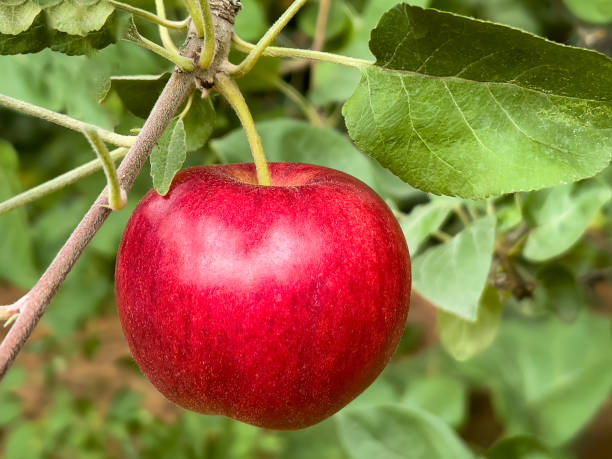apple/: (105, 149, 429, 435)
